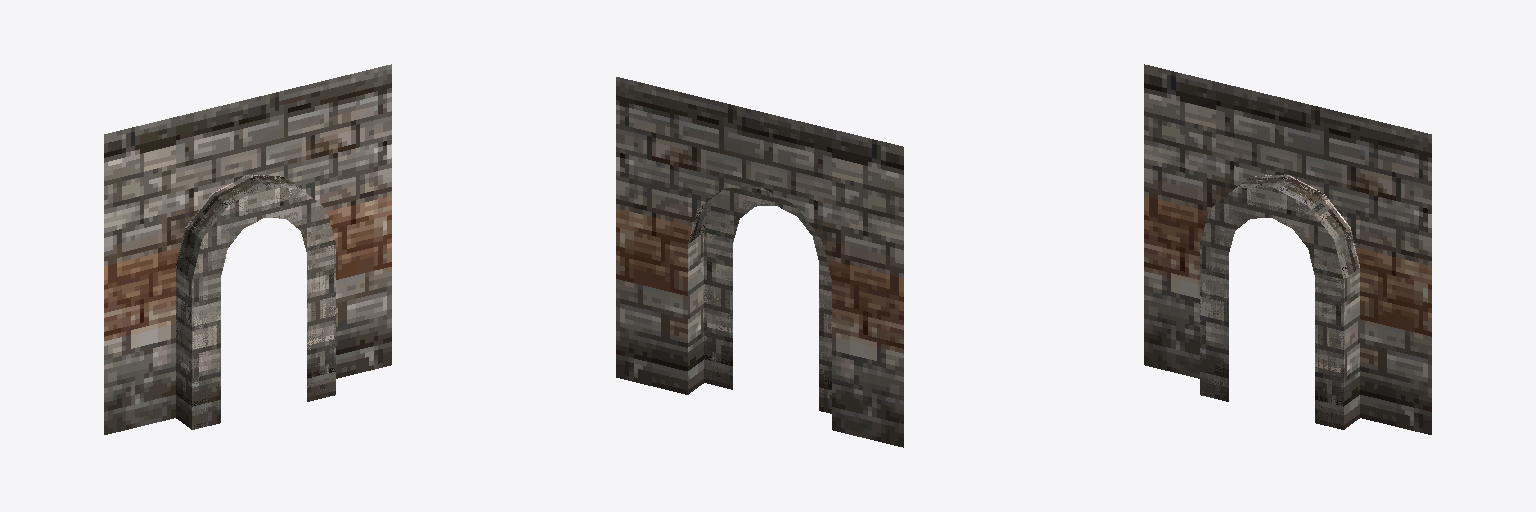
3 views of the same model, side by side, from view 1: azimuth 30°, elevation 25°; view 2: azimuth 150°, elevation 25°; view 3: azimuth 330°, elevation 25° (orthographic).
Visible parts, largest first — view 1: wallPaint_flat; view 2: wallPaint_flat; view 3: wallPaint_flat.
Part boxes in pixels (bbox=[...]): wallPaint_flat: bbox=[104, 64, 391, 434]; wallPaint_flat: bbox=[616, 77, 903, 447]; wallPaint_flat: bbox=[1144, 64, 1431, 434].
Size of the model in its own units: 1 by 1 by 0.1.
Materials: 3 (3 with a texture image).